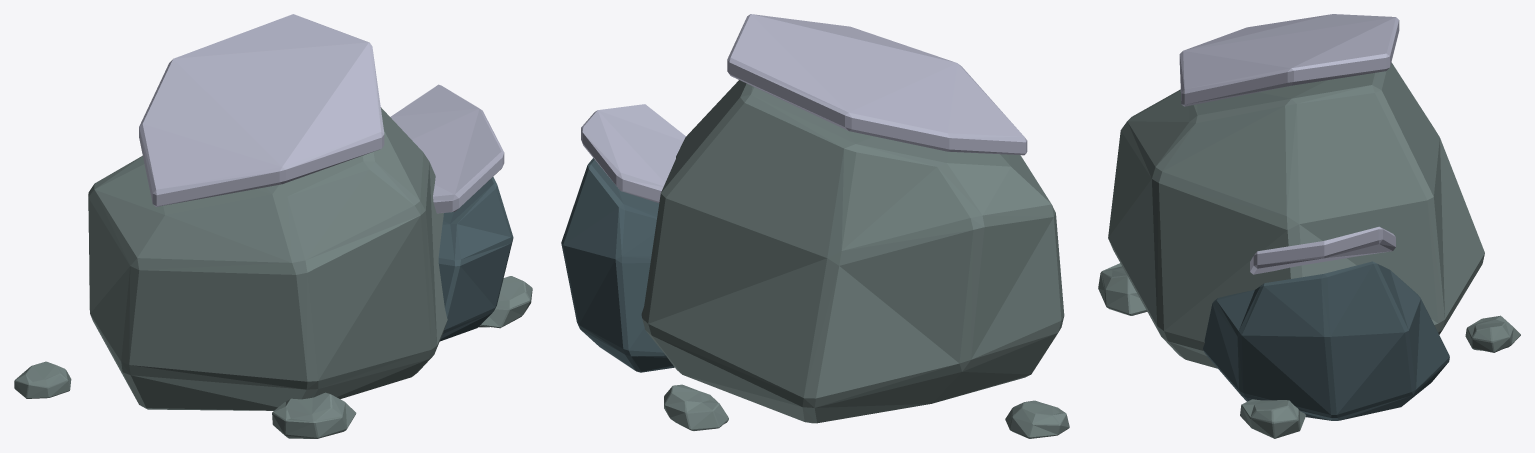
Rendered from rock_boulder_snow.glb.
The picture shows the model from 3 angles, left to right: view 1: azimuth 30°, elevation 25°; view 2: azimuth 150°, elevation 25°; view 3: azimuth 270°, elevation 25°; orthographic projection. The views are drawn at different scales.
Parts seen in each view (by area): view 1: rock_boulder_snow; view 2: rock_boulder_snow; view 3: rock_boulder_snow.
Boxes of the visible parts, x1,y1,x2,y2 form: rock_boulder_snow: (14, 14, 532, 438); rock_boulder_snow: (561, 14, 1069, 438); rock_boulder_snow: (1098, 14, 1520, 438).
Bounding box in the file's own units: 2.88 × 1.71 × 2.19.
